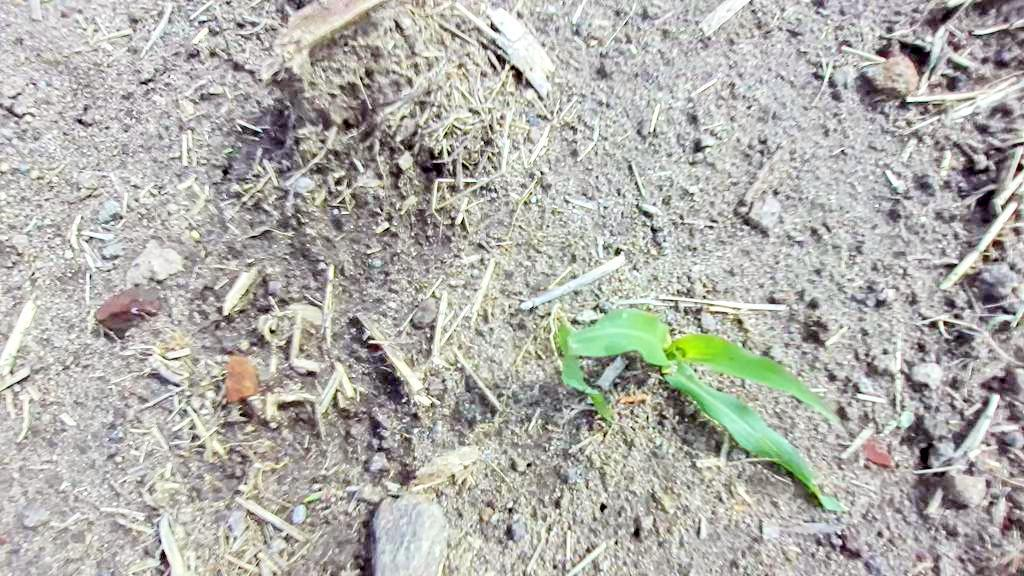BroWeed: (875, 407, 917, 443), (303, 490, 324, 502), (223, 146, 233, 154)
Maize: (529, 274, 892, 522)
